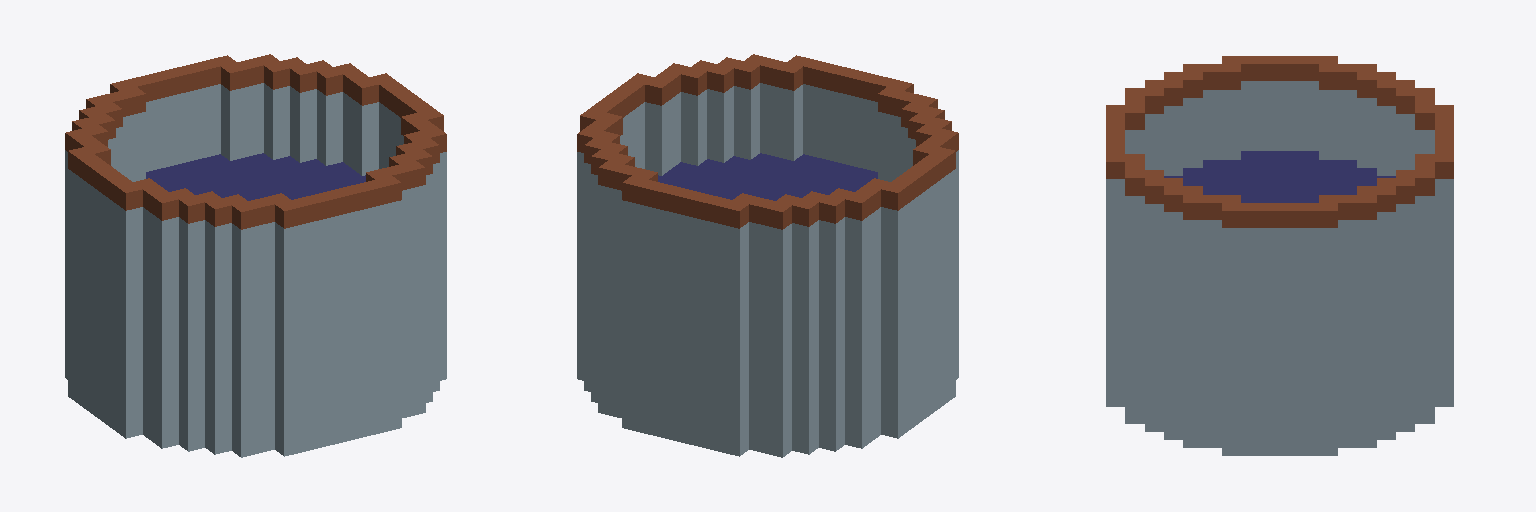
The picture shows the model from 3 angles: view 1: azimuth 30°, elevation 25°; view 2: azimuth 150°, elevation 25°; view 3: azimuth 270°, elevation 25°; orthographic projection.
Parts seen in each view (by area): view 1: object 1; view 2: object 1; view 3: object 1.
Part boxes in pixels (x1,y1,x2,y2): object 1: (65,54,446,457); object 1: (577,54,958,457); object 1: (1106,56,1453,455).
Size of the model in its own units: 1.9 by 1.4 by 1.8.
1 materials, 1 textured.